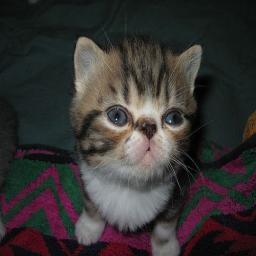catnose: (141, 122, 157, 140)
